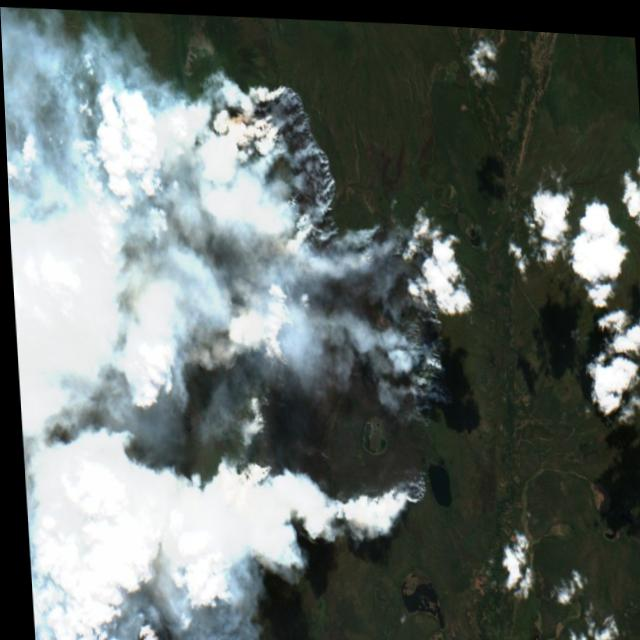fire: (201, 59, 463, 563)
